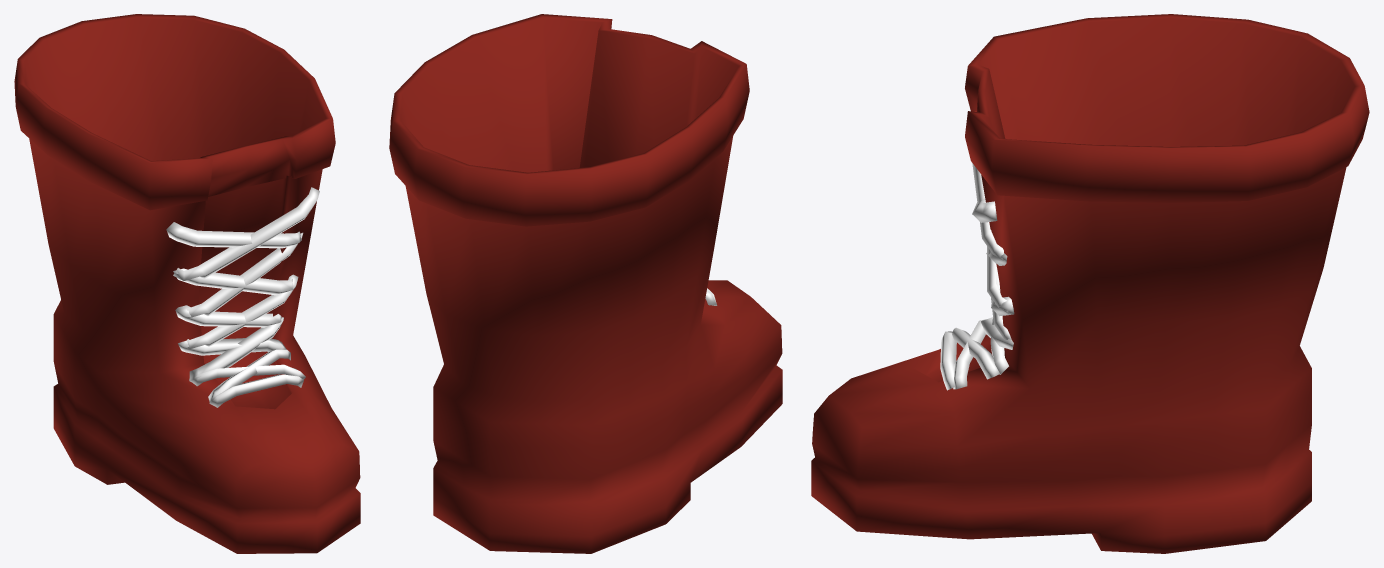
File: laceupbootsright.fbx
3 views of the same model, side by side, from view 1: azimuth 30°, elevation 25°; view 2: azimuth 150°, elevation 25°; view 3: azimuth 270°, elevation 25° (orthographic). The views are drawn at different scales.
Visible parts, largest first — view 1: LaceUpBootsRight; view 2: LaceUpBootsRight; view 3: LaceUpBootsRight.
Boxes of the visible parts, <box> form: LaceUpBootsRight: <box>14,14,360,553</box>; LaceUpBootsRight: <box>389,14,782,553</box>; LaceUpBootsRight: <box>811,14,1369,553</box>.
Bounding box in the file's own units: 49.93 × 41.44 × 29.06.
